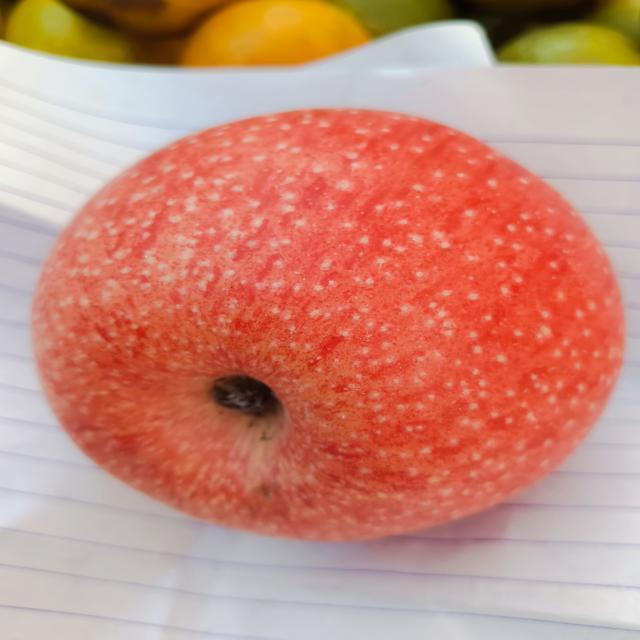Fresh Apple: (41, 102, 619, 540)
